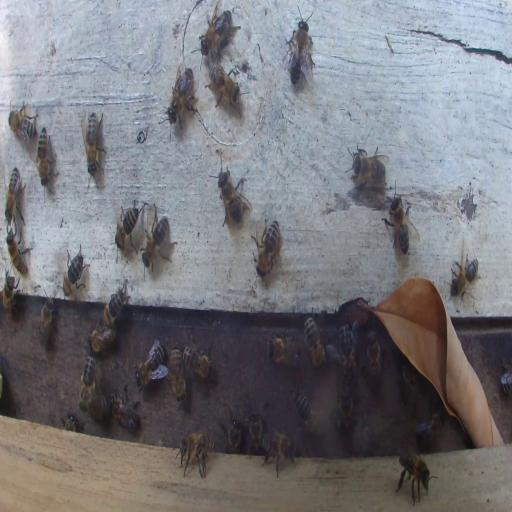nonpollenbee: (284, 8, 316, 91), (216, 167, 252, 230), (142, 206, 175, 272), (384, 192, 419, 254), (198, 4, 237, 58), (168, 64, 199, 130), (396, 450, 433, 505), (345, 143, 388, 188), (252, 218, 282, 276), (177, 430, 213, 478), (261, 428, 295, 476), (82, 109, 106, 175), (133, 340, 165, 388), (206, 63, 240, 107), (62, 245, 89, 298), (182, 336, 214, 380), (450, 254, 480, 300), (333, 326, 358, 381), (8, 99, 38, 144), (304, 314, 327, 372), (110, 386, 140, 430), (114, 204, 141, 252), (102, 282, 130, 328), (4, 167, 26, 224), (266, 332, 300, 366), (292, 392, 319, 432), (169, 346, 187, 404), (6, 232, 29, 276), (415, 411, 444, 445), (332, 389, 354, 432), (88, 322, 116, 354), (38, 293, 54, 348), (36, 124, 50, 186), (366, 332, 382, 386), (221, 418, 243, 453), (82, 393, 109, 421), (2, 270, 18, 314), (249, 412, 263, 454), (500, 362, 511, 394), (64, 413, 80, 430)
pollenbee: (80, 355, 96, 408)
